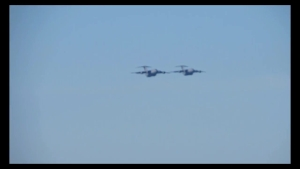flight: (168, 64, 207, 77), (129, 65, 169, 77)
